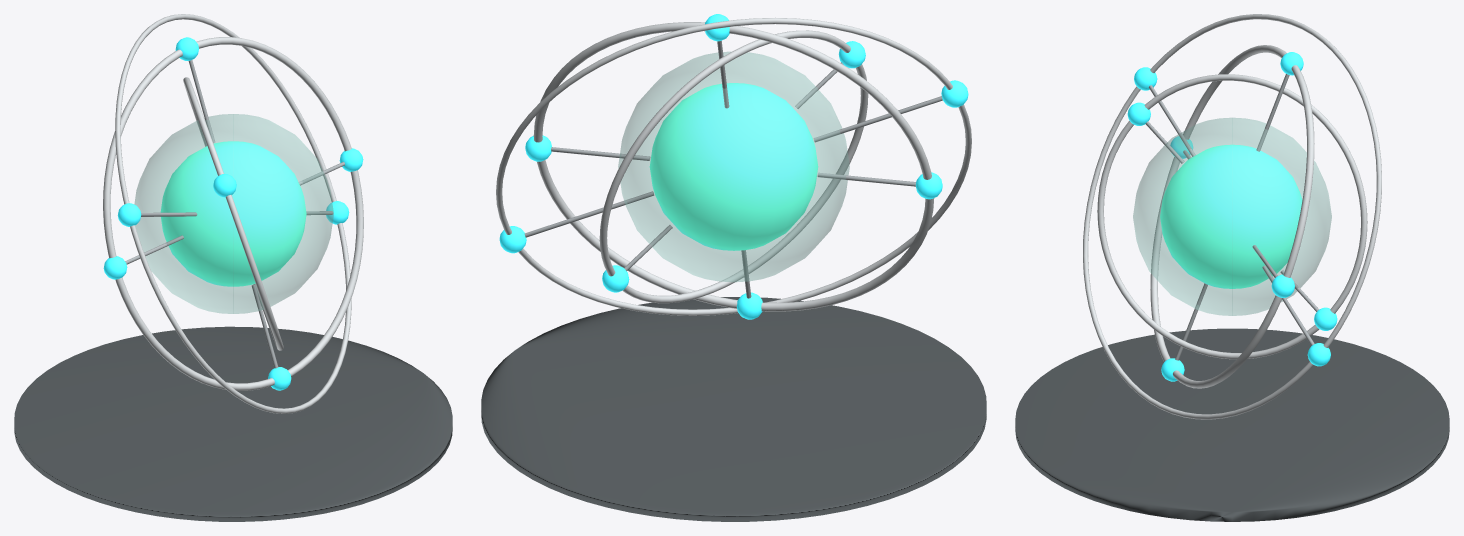
The model's file is instasmm-growth-core.glb.
The picture shows the model from 3 angles, left to right: view 1: azimuth 30°, elevation 25°; view 2: azimuth 150°, elevation 25°; view 3: azimuth 270°, elevation 25°; orthographic projection. The views are drawn at different scales.
Parts seen in each view (by area): view 1: Plinth, Glass_Shell, Growth_Core, Orbit_Ring_A, Orbit_Ring_C, Orbit_Ring_B; view 2: Plinth, Glass_Shell, Growth_Core, Orbit_Ring_A, Orbit_Ring_C, Orbit_Ring_B, Strut_07, Strut_08; view 3: Plinth, Glass_Shell, Growth_Core, Orbit_Ring_C, Orbit_Ring_B, Orbit_Ring_A.
Part boxes in pixels (box(x1,y1,x2,y2)): Plinth: box(14, 326, 452, 521); Glass_Shell: box(134, 114, 333, 313); Growth_Core: box(160, 141, 306, 286); Orbit_Ring_A: box(103, 37, 363, 390); Orbit_Ring_C: box(115, 14, 351, 413); Orbit_Ring_B: box(183, 77, 283, 350); Plinth: box(481, 297, 986, 521); Glass_Shell: box(618, 51, 849, 282); Growth_Core: box(649, 83, 818, 250); Orbit_Ring_A: box(533, 22, 934, 311); Orbit_Ring_C: box(496, 17, 971, 315); Orbit_Ring_B: box(599, 30, 868, 303); Strut_07: box(813, 96, 942, 142); Strut_08: box(524, 191, 654, 237); Plinth: box(1015, 328, 1449, 521); Glass_Shell: box(1133, 117, 1331, 315); Growth_Core: box(1160, 144, 1302, 288); Orbit_Ring_C: box(1083, 14, 1381, 419); Orbit_Ring_B: box(1097, 74, 1367, 359); Orbit_Ring_A: box(1150, 45, 1314, 388).
Size of the model in its own units: 1.22 by 1.18 by 1.22.
